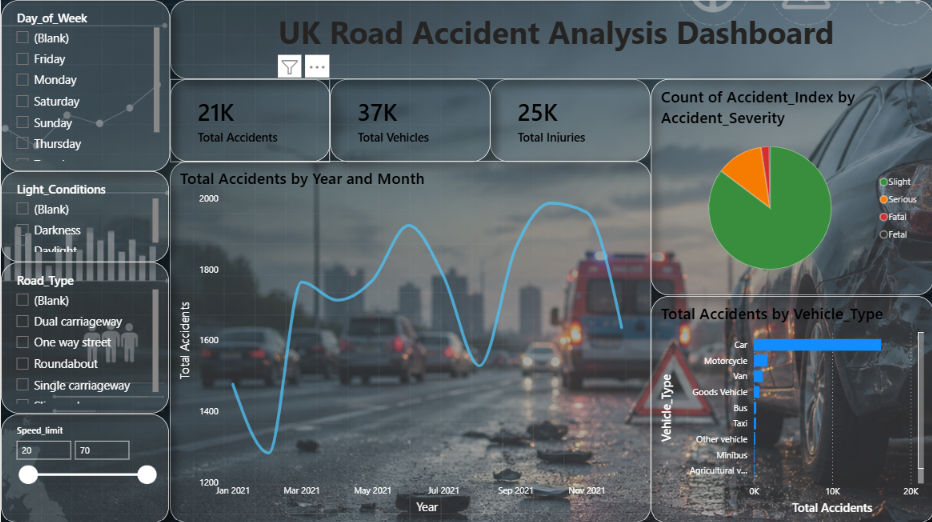

What the dashboard file says about the page in this screenshot:
{"tool":"powerbi","page":{"name":"UK","canvas":[1280,720],"ordinal":0},"visuals":[{"type":"cardVisual","fields":{"Data":["UK_Road_Accidents.Total Accidents"]},"box":[231.7,108.3,220,113.3],"z":0},{"type":"cardVisual","fields":{"Data":["UK_Road_Accidents.Total Casualties"]},"box":[671.7,108.3,220,113.3],"z":1000},{"type":"cardVisual","fields":{"Data":["UK_Road_Accidents.Total Vehicles"]},"box":[451.7,108.3,220,113.3],"z":2000},{"type":"textbox","box":[231.4,0,1048.6,108.6],"z":3000},{"type":"lineChart","fields":{"Y":["UK_Road_Accidents.Total Accidents"],"Category":["UK_Road_Accidents.Accident Date.Variation.Date Hierarchy.Year","UK_Road_Accidents.Accident Date.Variation.Date Hierarchy.Month"]},"box":[231.4,221.4,660,498.6],"z":4000},{"type":"pieChart","fields":{"Category":["UK_Road_Accidents.Accident_Severity"],"Y":["CountNonNull(UK_Road_Accidents.Accident_Index)"]},"box":[891.4,108.6,388.6,297.1],"z":5000},{"type":"slicer","fields":{"Values":["UK_Road_Accidents.Day_of_Week"]},"box":[0,0,231.7,235],"z":6000},{"type":"slicer","fields":{"Values":["UK_Road_Accidents.Light_Conditions"]},"box":[0,235,230,125],"z":7000},{"type":"slicer","fields":{"Values":["UK_Road_Accidents.Road_Type"]},"box":[0,360,230,208.3],"z":8000},{"type":"slicer","fields":{"Values":["UK_Road_Accidents.Speed_limit"]},"box":[0,568.3,230,151.7],"z":9000},{"type":"barChart","fields":{"Category":["UK_Road_Accidents.Vehicle_Type"],"Y":["UK_Road_Accidents.Total Accidents"]},"box":[891.4,405.7,388.6,314.3],"z":10000}]}

Visuals, with their boxes in screenshot pixels (x1, y1, x2, y2), scaled from the page's 1280x720 canvas onto the 932x522 screenshot:
cardVisual - UK_Road_Accidents.Total Accidents: 169:79:329:161
cardVisual - UK_Road_Accidents.Total Casualties: 489:79:649:161
cardVisual - UK_Road_Accidents.Total Vehicles: 329:79:489:161
textbox: 168:0:931:79
lineChart - UK_Road_Accidents.Total Accidents x UK_Road_Accidents.Accident Date.Variation.Date Hierarchy.Year: 168:161:649:521
pieChart - UK_Road_Accidents.Accident_Severity x CountNonNull(UK_Road_Accidents.Accident_Index): 649:79:931:294
slicer - UK_Road_Accidents.Day_of_Week: 0:0:169:170
slicer - UK_Road_Accidents.Light_Conditions: 0:170:167:261
slicer - UK_Road_Accidents.Road_Type: 0:261:167:412
slicer - UK_Road_Accidents.Speed_limit: 0:412:167:521
barChart - UK_Road_Accidents.Vehicle_Type x UK_Road_Accidents.Total Accidents: 649:294:931:521
